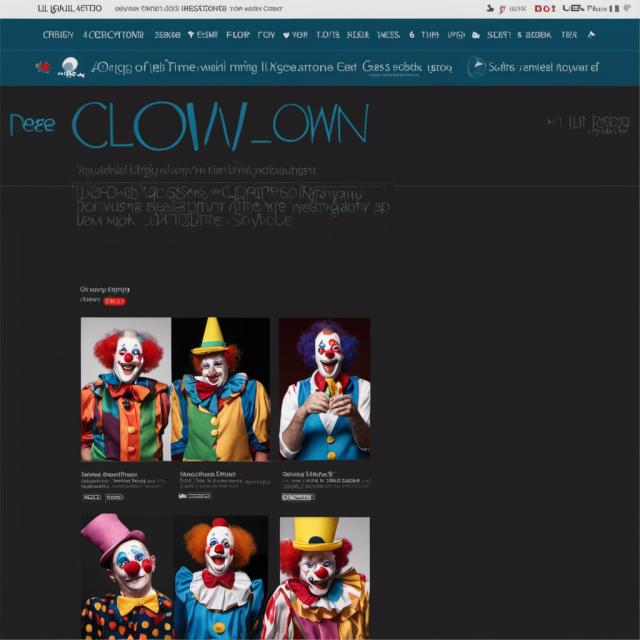clown: (276, 317, 375, 463), (176, 321, 274, 464), (75, 510, 177, 640), (269, 515, 373, 639), (79, 327, 171, 463), (174, 518, 266, 637)
